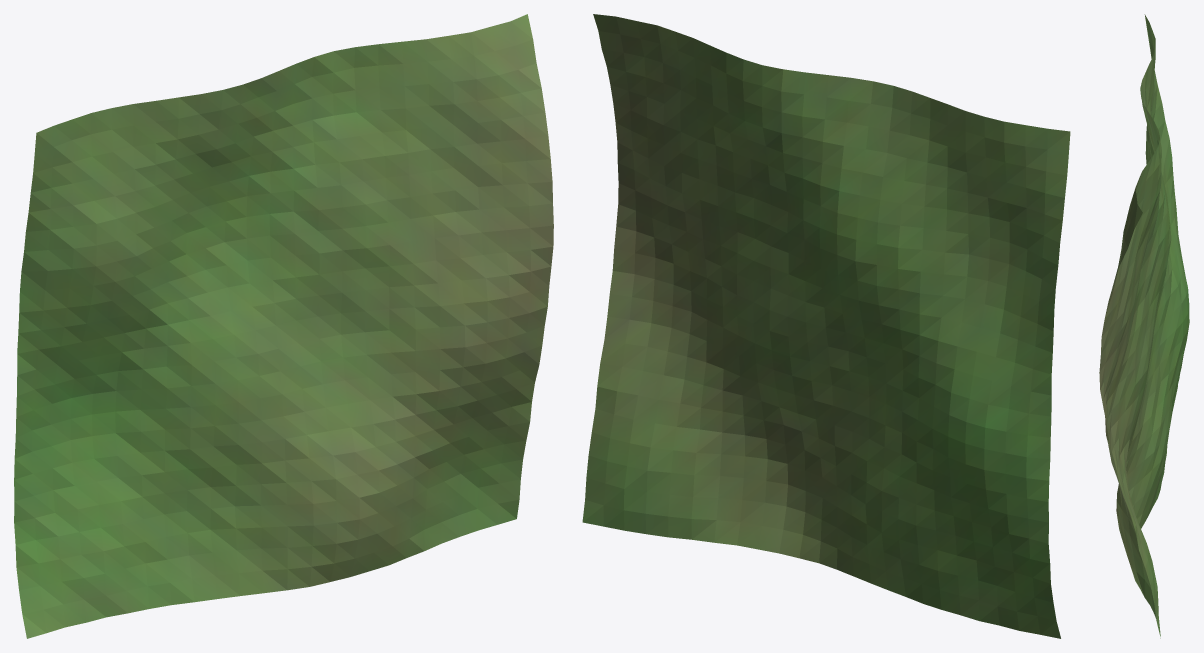
Rendered from hilly_terrain.glb.
3 renders of one model, left to right at view 1: azimuth 30°, elevation 25°; view 2: azimuth 150°, elevation 25°; view 3: azimuth 270°, elevation 25°, orthographic. The views are drawn at different scales.
Parts seen in each view (by area): view 1: geometry_0; view 2: geometry_0; view 3: geometry_0.
Part boxes in pixels (x1,y1,x2,y2): geometry_0: (14, 14, 553, 638); geometry_0: (582, 14, 1070, 638); geometry_0: (1099, 14, 1189, 638).
Bounding box in the file's own units: 10 × 10 × 1.92.
